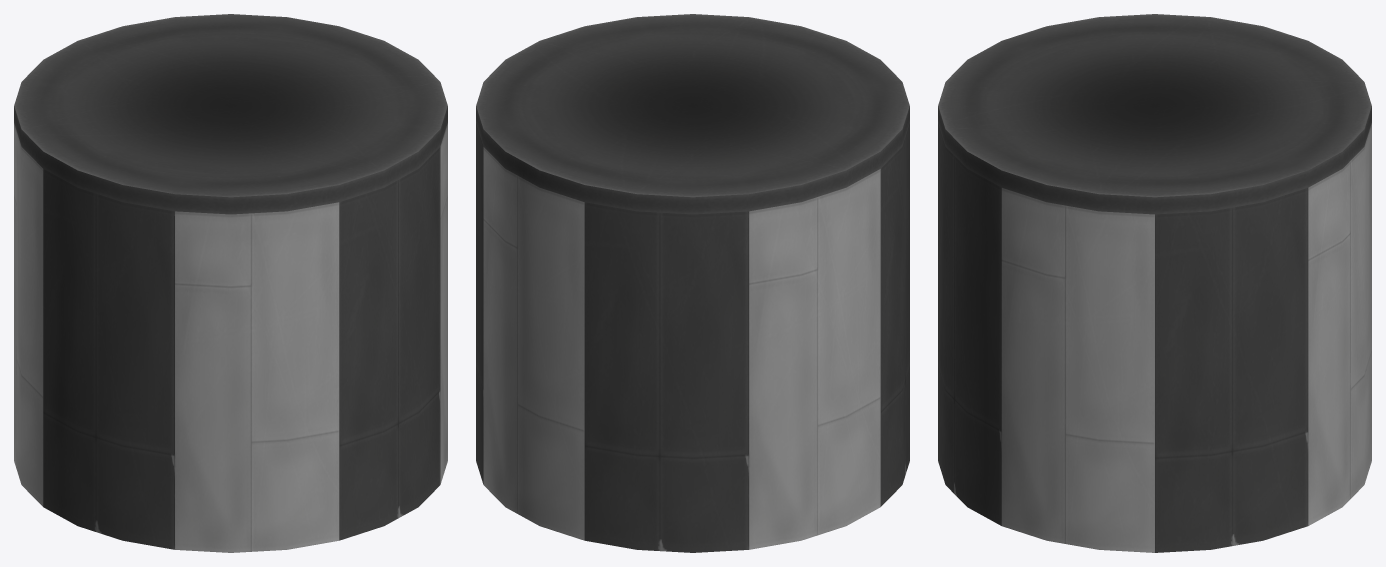
The model's file is TranstageEngine.dae.
3 views of the same model, side by side, from view 1: azimuth 30°, elevation 25°; view 2: azimuth 150°, elevation 25°; view 3: azimuth 270°, elevation 25° (orthographic).
Parts seen in each view (by area): view 1: fairing, group34_pCylinder32; view 2: fairing, group34_pCylinder32; view 3: fairing, group34_pCylinder32.
Boxes of the visible parts, <box> form: fairing: <box>14,123,447,552</box>; group34_pCylinder32: <box>14,14,447,214</box>; fairing: <box>476,123,909,552</box>; group34_pCylinder32: <box>476,14,909,214</box>; fairing: <box>938,123,1371,552</box>; group34_pCylinder32: <box>938,14,1371,214</box>.
Size of what is drawn, in the model's own units: 1.88 by 1.7 by 1.88.
